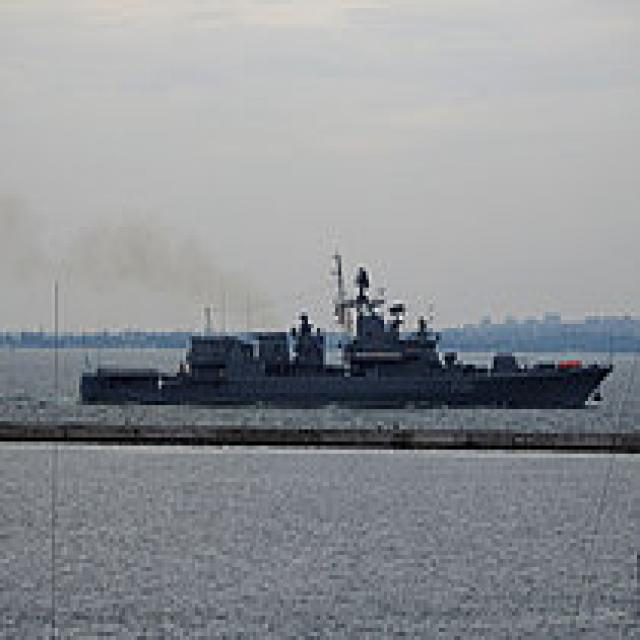Warship: (73, 243, 616, 409)
